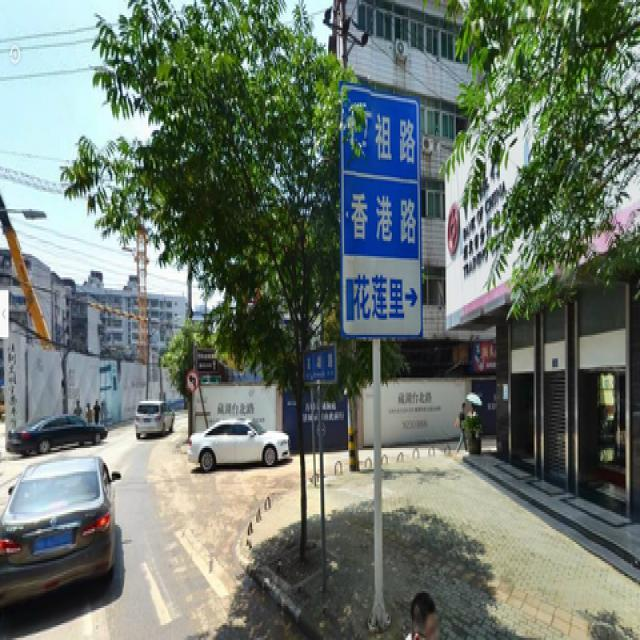koel: (136, 2, 329, 551)
